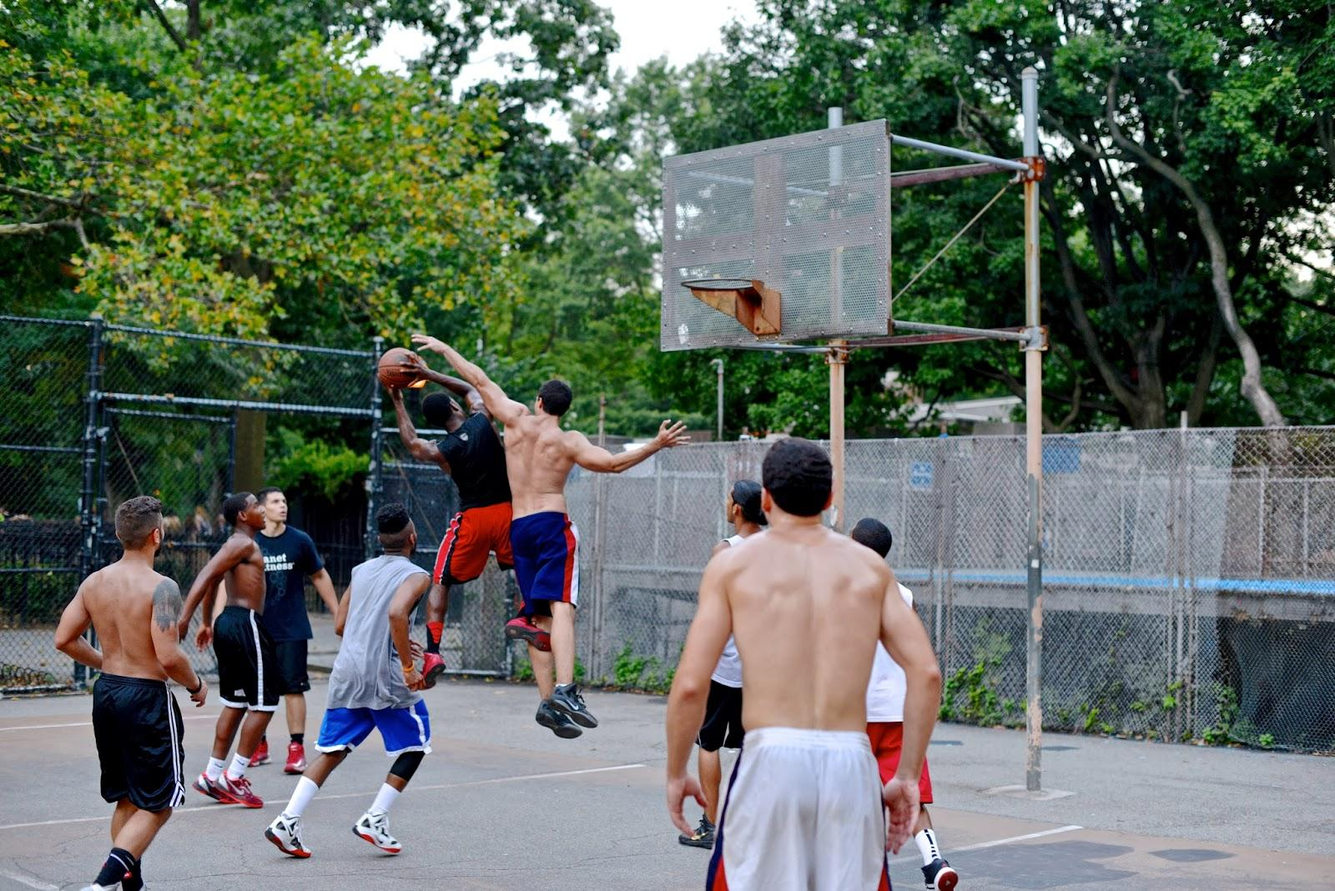basketball: (371, 343, 420, 381)
